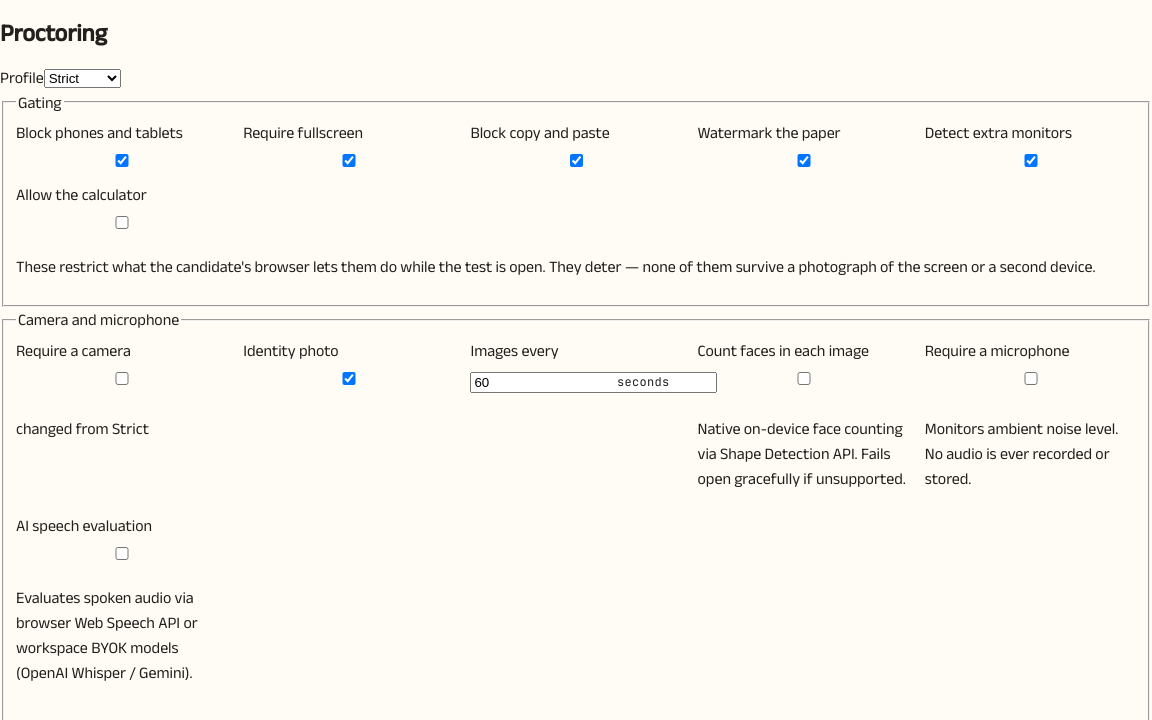
Test: the profile rewrites the controls, visibly (Q8a) › the confirmation › cancelling the confirmation keeps the old profile and every override
Select "Standard" in the dropdown labelled "Profile" at (82, 78), box [44,69,121,88]
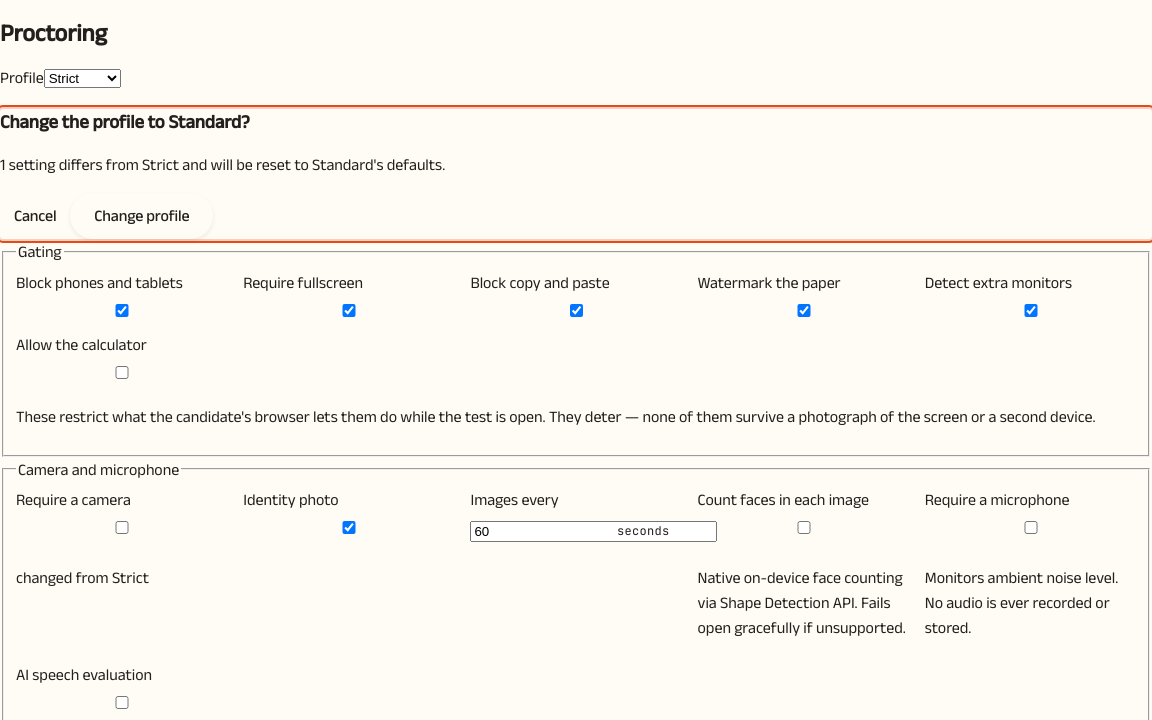
Click the button "Cancel" at (35, 216), box [0,195,70,237]
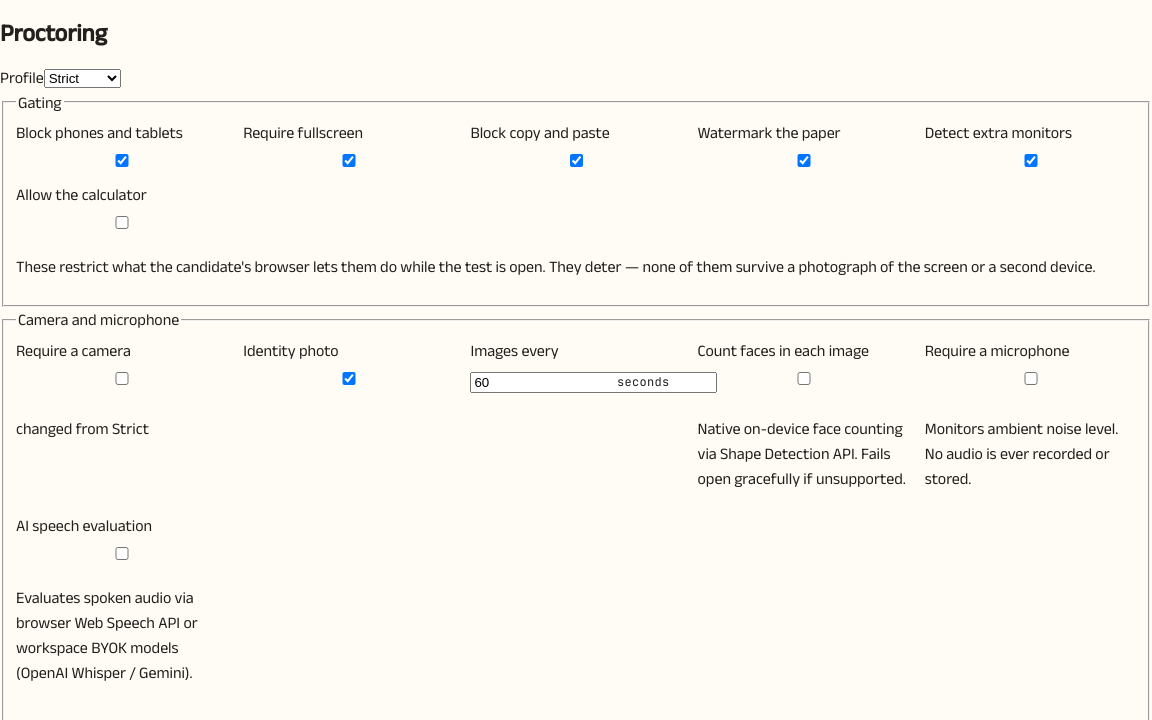
expect the dialog is gone: met
